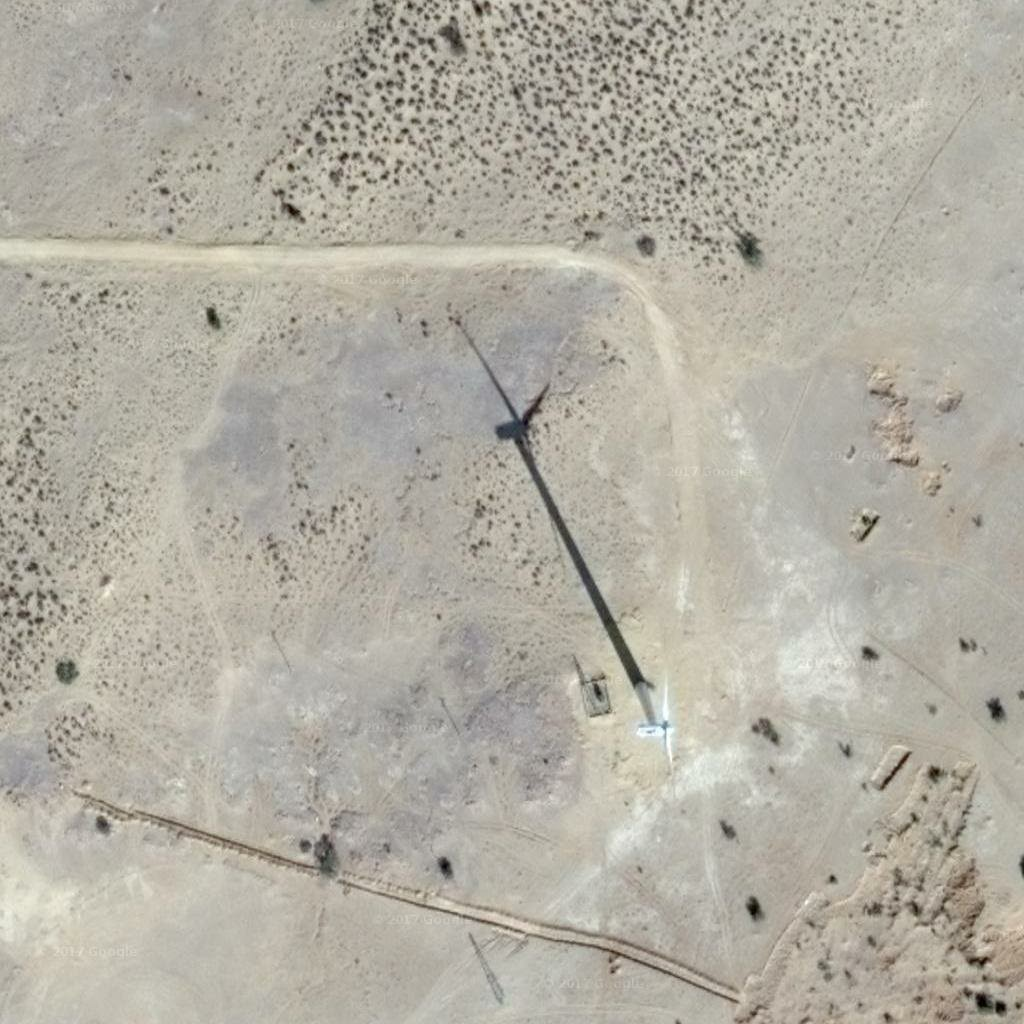Windmill: (435, 318, 690, 670)
